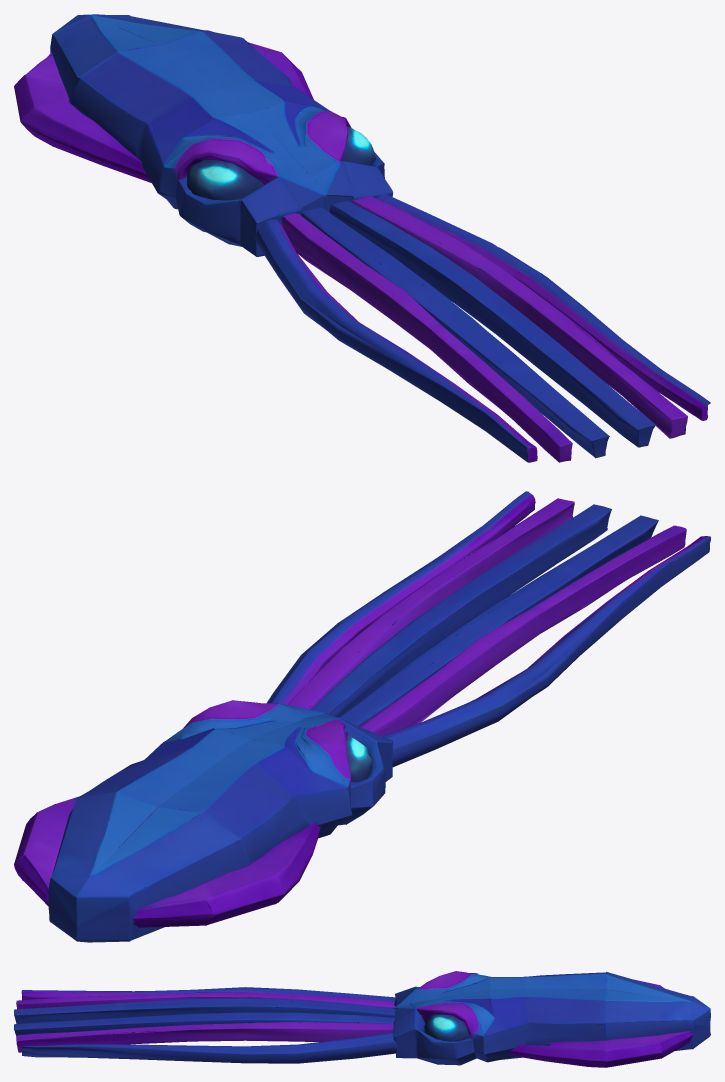
The model's file is octopus_delta.glb.
The picture shows the model from 3 angles, top to bottom: view 1: azimuth 30°, elevation 25°; view 2: azimuth 150°, elevation 25°; view 3: azimuth 270°, elevation 25°; orthographic projection. The views are drawn at different scales.
Visible parts, largest first — view 1: geometry_0; view 2: geometry_0; view 3: geometry_0.
Boxes of the visible parts, x1,y1,x2,y2 form: geometry_0: [14, 14, 710, 462]; geometry_0: [14, 491, 710, 942]; geometry_0: [14, 971, 710, 1067].
Size of the model in its own units: 0.2642 by 0.0967 by 0.9502.
1 material, 1 textured.
